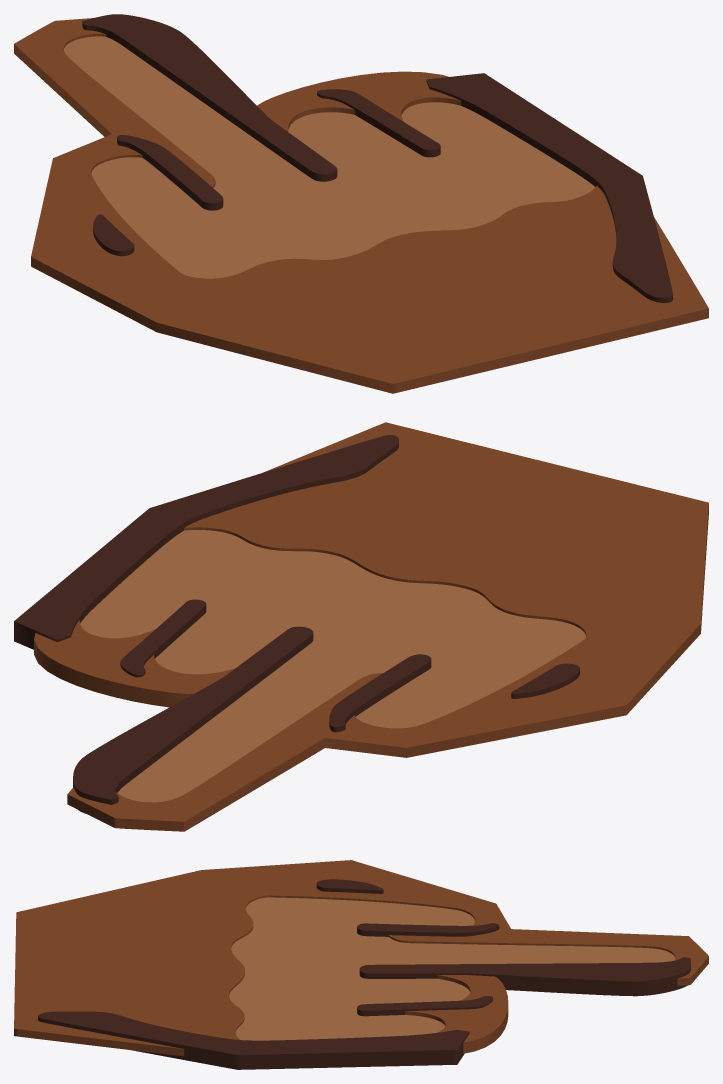
Rendered from emoji_u1f595_1f3fe.glb.
3 views of the same model, one above another, from view 1: azimuth 30°, elevation 25°; view 2: azimuth 150°, elevation 25°; view 3: azimuth 270°, elevation 25° (orthographic). The views are drawn at different scales.
Visible parts, largest first — view 1: emoji_u1f595_1f3fe; view 2: emoji_u1f595_1f3fe; view 3: emoji_u1f595_1f3fe.
Part boxes in pixels (x1,y1,x2,y2): emoji_u1f595_1f3fe: (14,14,708,393); emoji_u1f595_1f3fe: (14,422,708,831); emoji_u1f595_1f3fe: (14,860,708,1069).
Bounding box in the file's own units: 0.0231 × 0.0008 × 0.0341.
